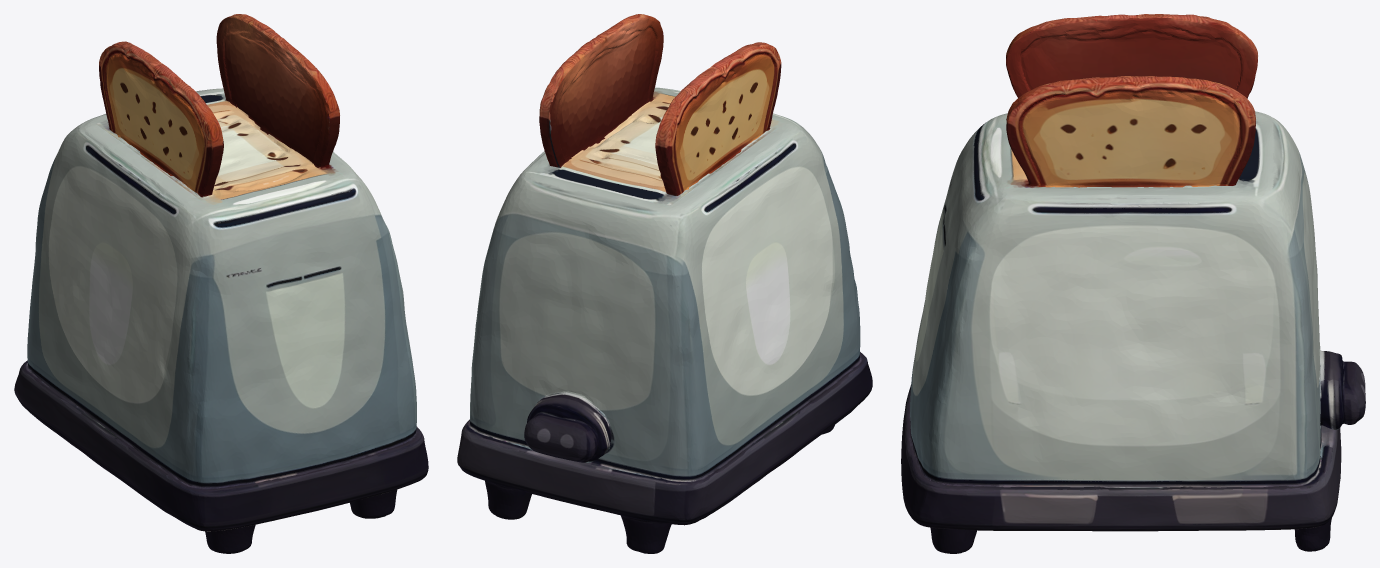
The picture shows the model from 3 angles, left to right: view 1: azimuth 30°, elevation 25°; view 2: azimuth 150°, elevation 25°; view 3: azimuth 270°, elevation 25°; orthographic projection. The views are drawn at different scales.
Visible parts, largest first — view 1: tmp658ym1l3.ply; view 2: tmp658ym1l3.ply; view 3: tmp658ym1l3.ply.
Boxes of the visible parts, x1,y1,x2,y2 form: tmp658ym1l3.ply: (14,14,428,553); tmp658ym1l3.ply: (457,14,872,553); tmp658ym1l3.ply: (901,14,1365,553).
Size of the model in its own units: 0.6181 by 0.9996 by 0.9078.
1 material, 1 textured.
